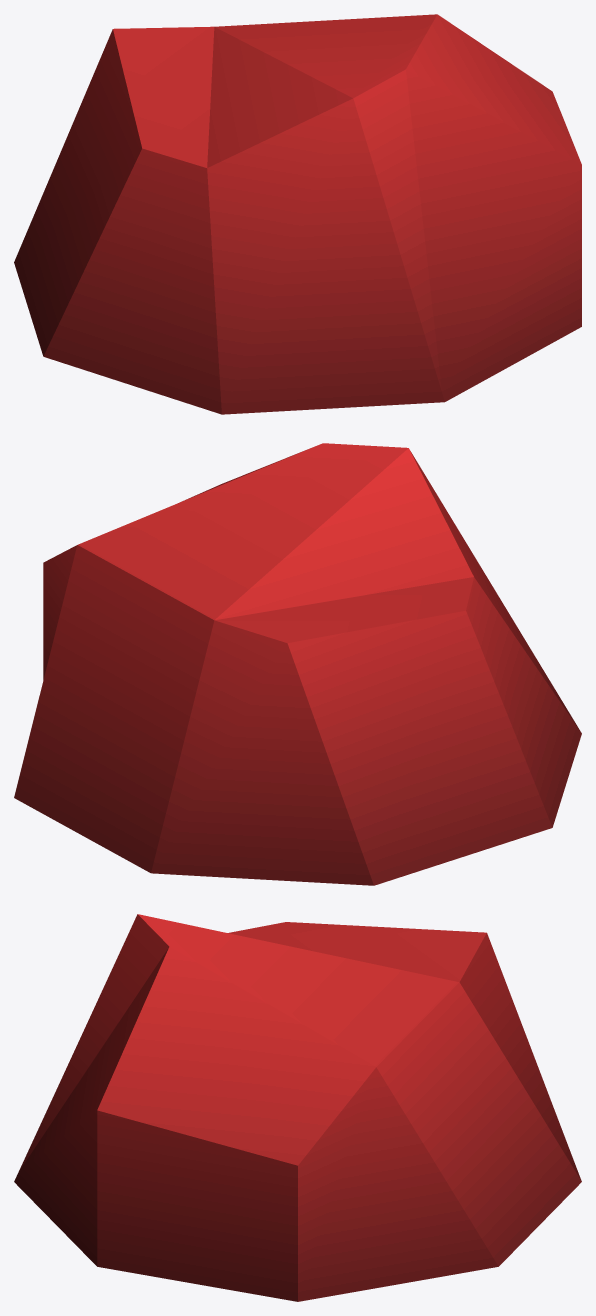
The model's file is PL002_Volcanic04.FBX.
The picture shows the model from 3 angles, top to bottom: view 1: azimuth 30°, elevation 25°; view 2: azimuth 150°, elevation 25°; view 3: azimuth 270°, elevation 25°; orthographic projection. The views are drawn at different scales.
Parts seen in each view (by area): view 1: PL002_Volcanic04; view 2: PL002_Volcanic04; view 3: PL002_Volcanic04.
Boxes of the visible parts, box(x1,y1,x2,y2) form: PL002_Volcanic04: box(14, 14, 581, 414); PL002_Volcanic04: box(14, 443, 581, 885); PL002_Volcanic04: box(14, 914, 581, 1301).
Size of the model in its own units: 232 by 115 by 232.
1 material, 1 textured.
